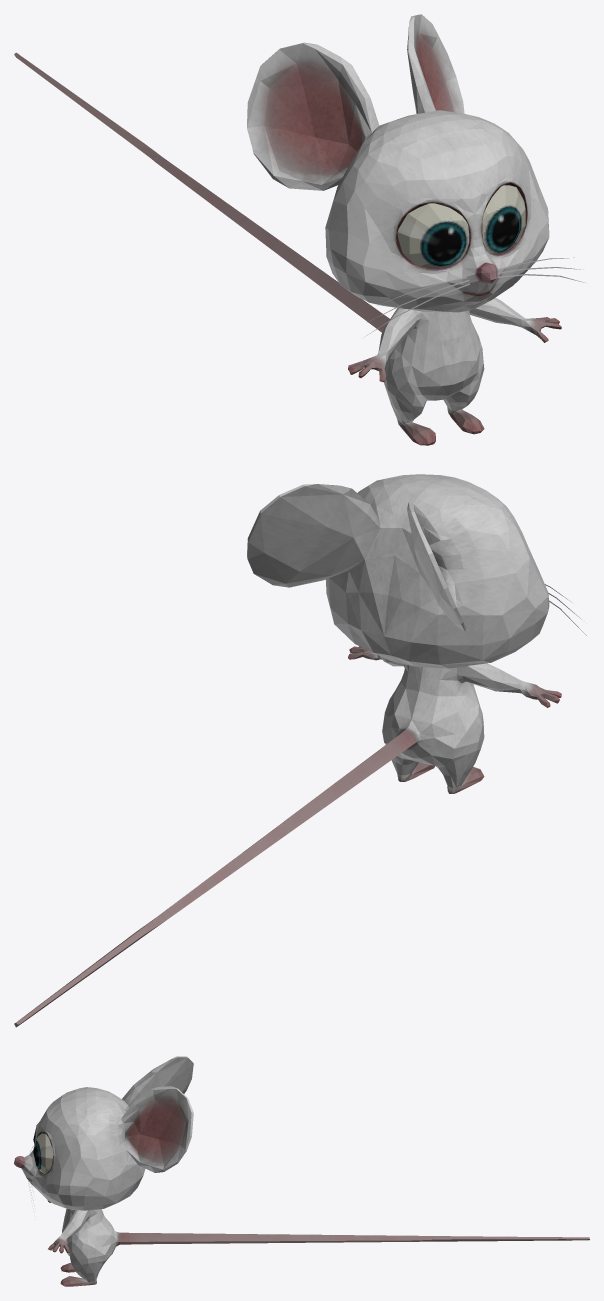
The model's file is 3DModel.gltf.
The picture shows the model from 3 angles, top to bottom: view 1: azimuth 30°, elevation 25°; view 2: azimuth 150°, elevation 25°; view 3: azimuth 270°, elevation 25°; orthographic projection. The views are drawn at different scales.
Bounding box in the file's own units: 0.6958 × 0.9794 × 2.5.
2 materials, 2 textured.
